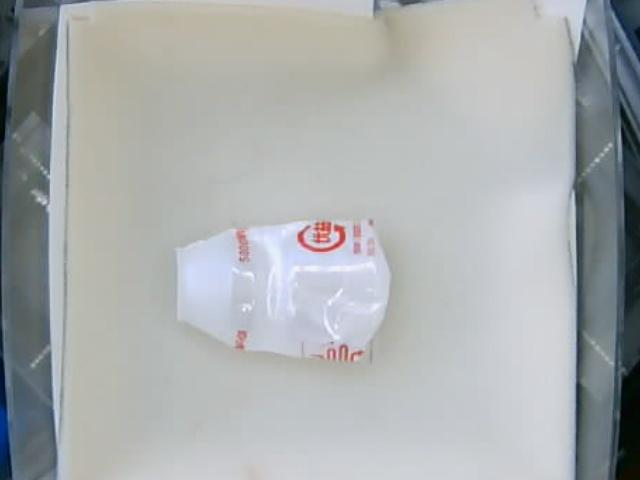Bottle: (174, 217, 394, 363)
